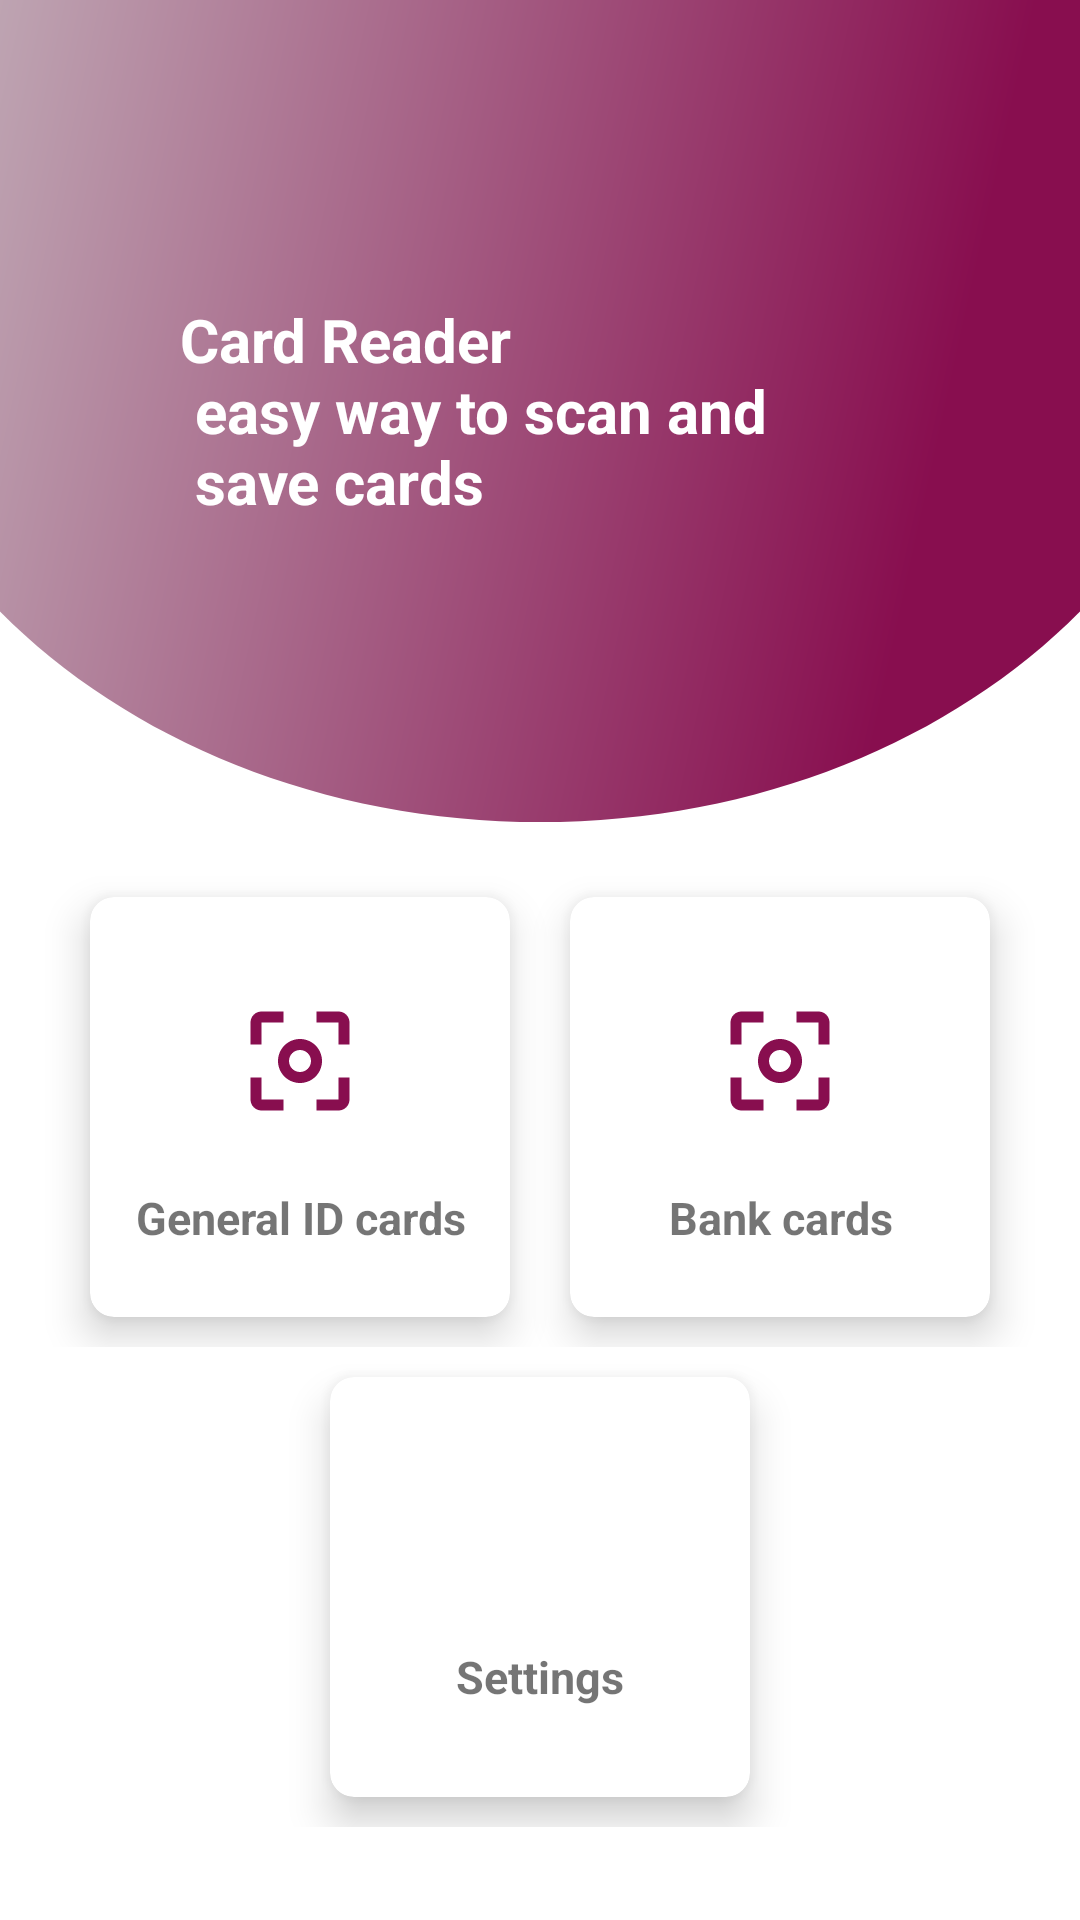

Named icons in this screenshot (1080px x 1920px) and their centers, point (x, y):
scan: point (300, 1061), point (780, 1061)
